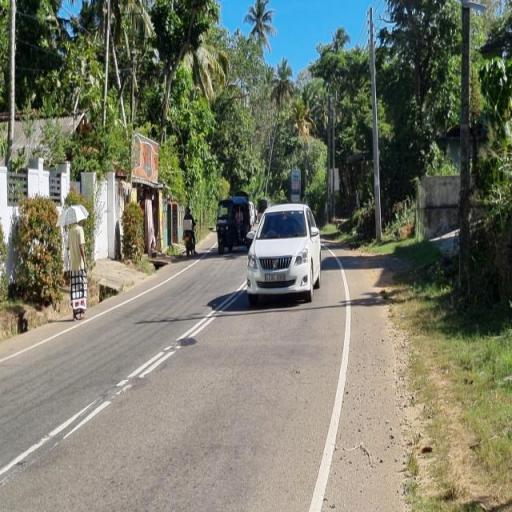double_white_line: (111, 273, 248, 394), (1, 390, 111, 484)
